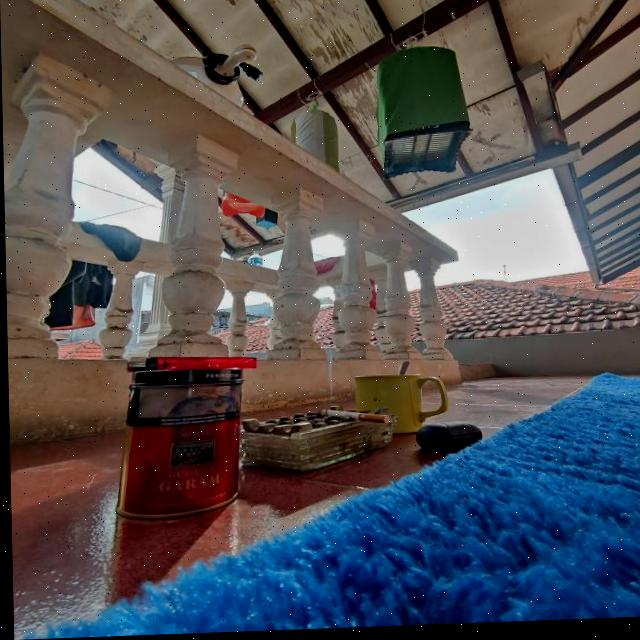cigarette: (320, 410, 387, 428)
